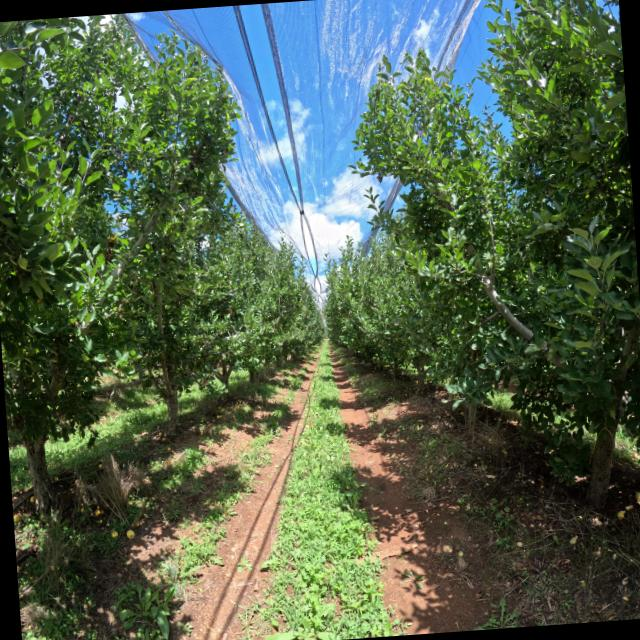-FireBlight-: (105, 231, 117, 260), (226, 306, 232, 316)
